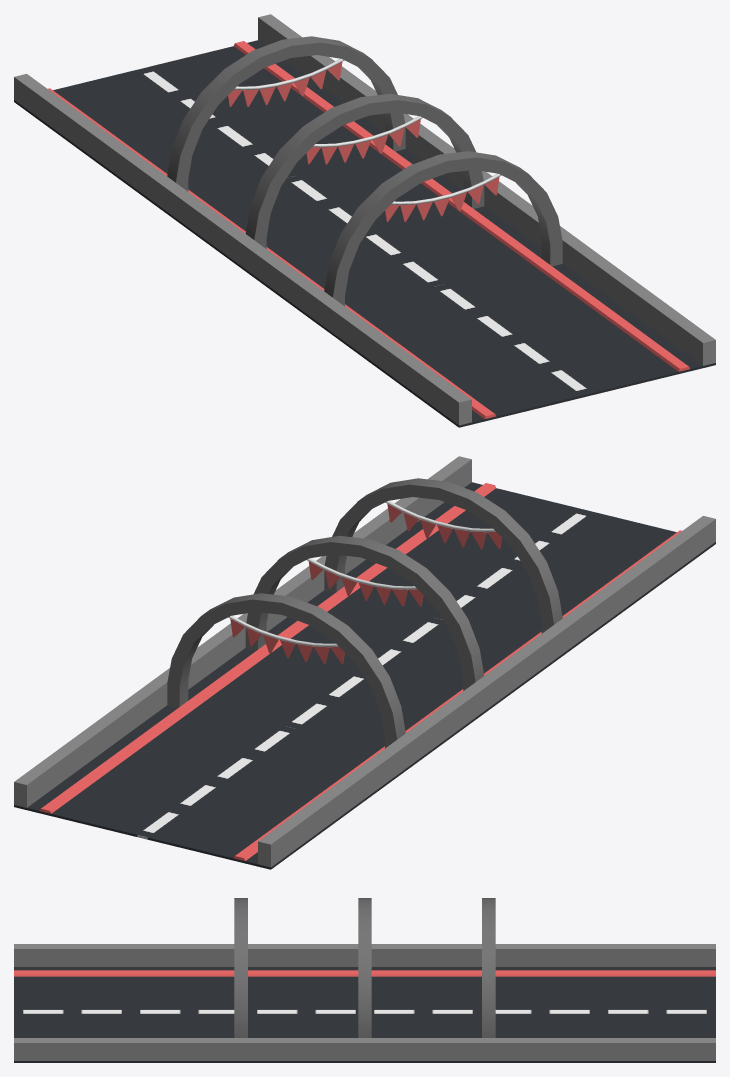
File: kartkids_base_trk_510_srt_startfinish_arch_3x1.gltf
3 views of the same model, one above another, from view 1: azimuth 30°, elevation 25°; view 2: azimuth 150°, elevation 25°; view 3: azimuth 270°, elevation 25° (orthographic). The views are drawn at different scales.
Parts seen in each view (by area): view 1: kartkids_base_trk_510_srt_startfinish_arch_3x1.001, kartkids_base_trk_510_srt_startfinish_arch_3x1.002, kartkids_base_trk_510_srt_startfinish_arch_3x1; view 2: kartkids_base_trk_510_srt_startfinish_arch_3x1.001, kartkids_base_trk_510_srt_startfinish_arch_3x1.002, kartkids_base_trk_510_srt_startfinish_arch_3x1; view 3: kartkids_base_trk_510_srt_startfinish_arch_3x1.001, kartkids_base_trk_510_srt_startfinish_arch_3x1.002, kartkids_base_trk_510_srt_startfinish_arch_3x1.
Boxes of the visible parts, left/top/right/bottom form: kartkids_base_trk_510_srt_startfinish_arch_3x1.001: left=14, top=40, right=715, bottom=427; kartkids_base_trk_510_srt_startfinish_arch_3x1.002: left=14, top=14, right=715, bottom=425; kartkids_base_trk_510_srt_startfinish_arch_3x1: left=167, top=36, right=562, bottom=306; kartkids_base_trk_510_srt_startfinish_arch_3x1.001: left=14, top=482, right=715, bottom=869; kartkids_base_trk_510_srt_startfinish_arch_3x1.002: left=14, top=456, right=715, bottom=867; kartkids_base_trk_510_srt_startfinish_arch_3x1: left=167, top=478, right=562, bottom=748; kartkids_base_trk_510_srt_startfinish_arch_3x1.001: left=14, top=967, right=715, bottom=1062; kartkids_base_trk_510_srt_startfinish_arch_3x1.002: left=14, top=944, right=715, bottom=1060; kartkids_base_trk_510_srt_startfinish_arch_3x1: left=234, top=898, right=495, bottom=1037.
Size of the model in its own units: 10 by 4.96 by 30.
Materials: 6 (1 with a texture image).
